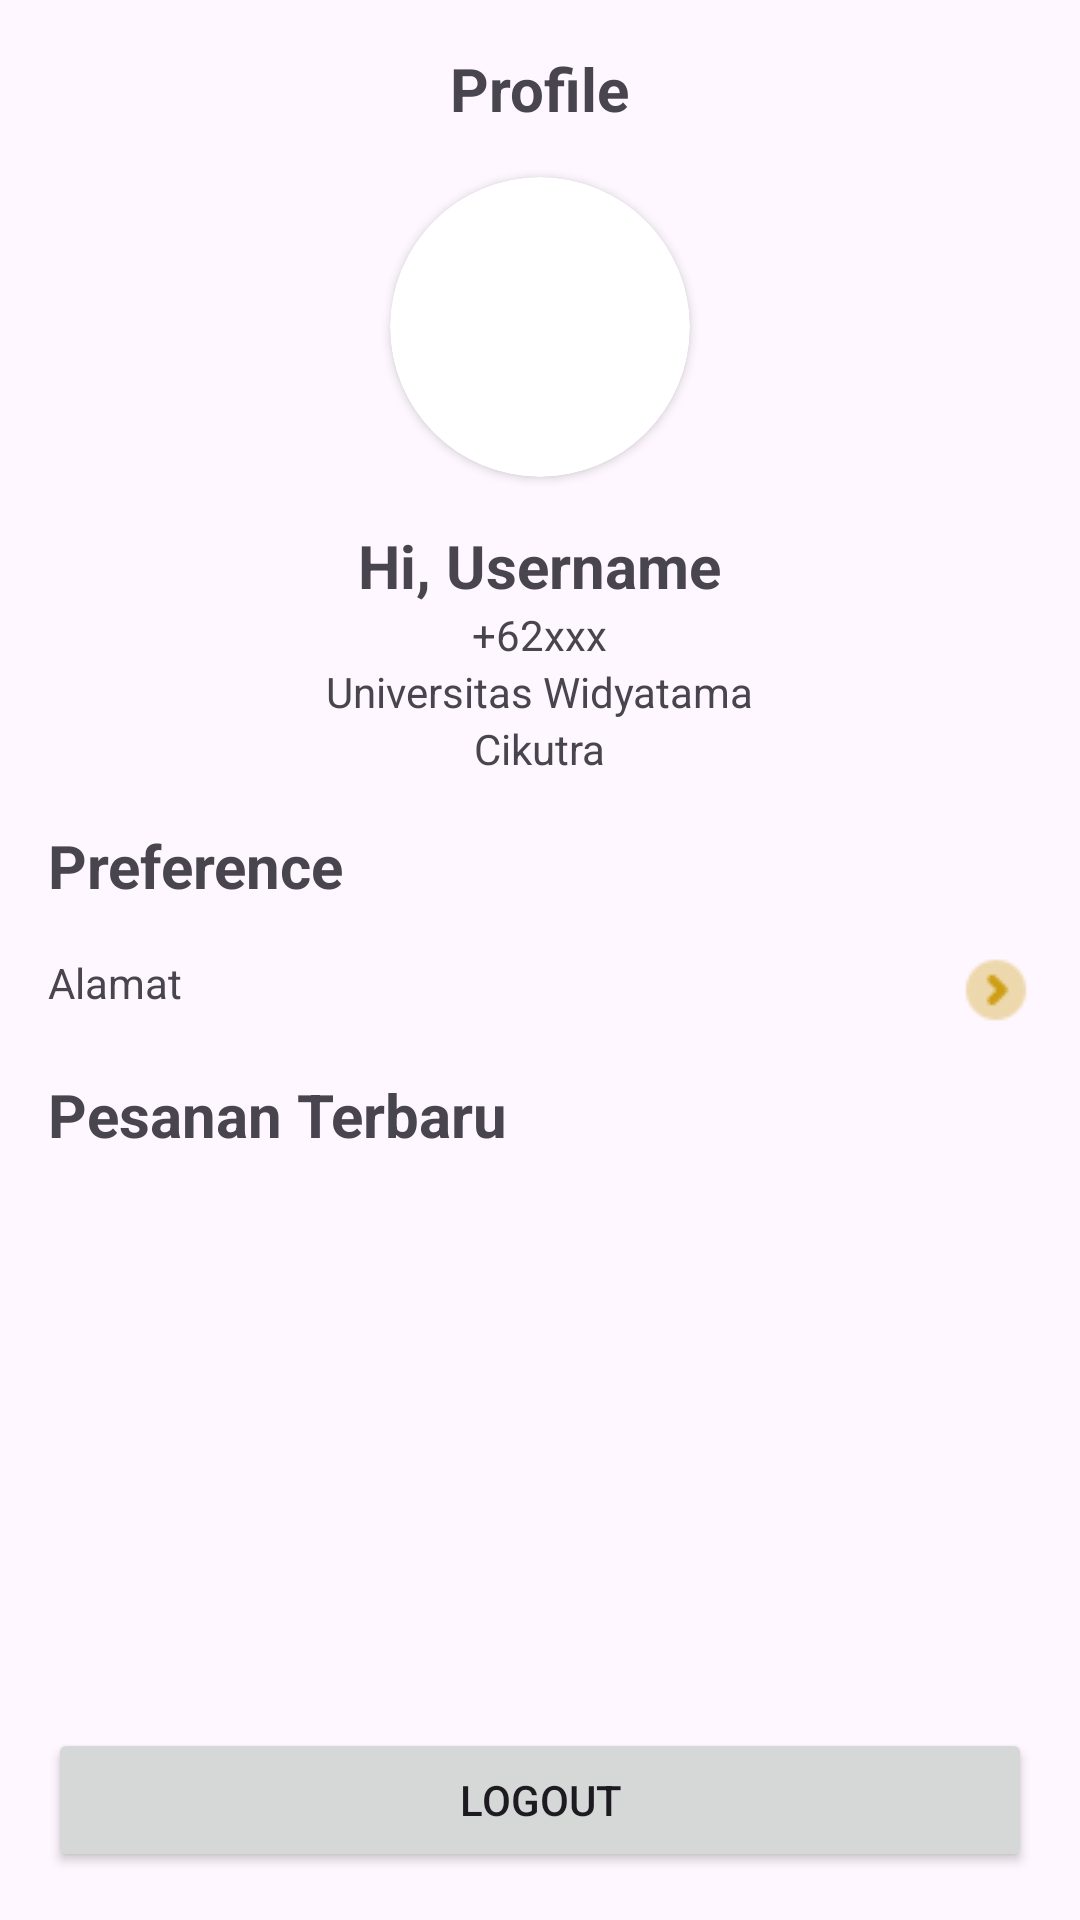

Named icons in this screenshot (1080*1920) and their bounding boxes, (x1, y1, x2, y2):
arrow right: (965, 959, 1027, 1021)
